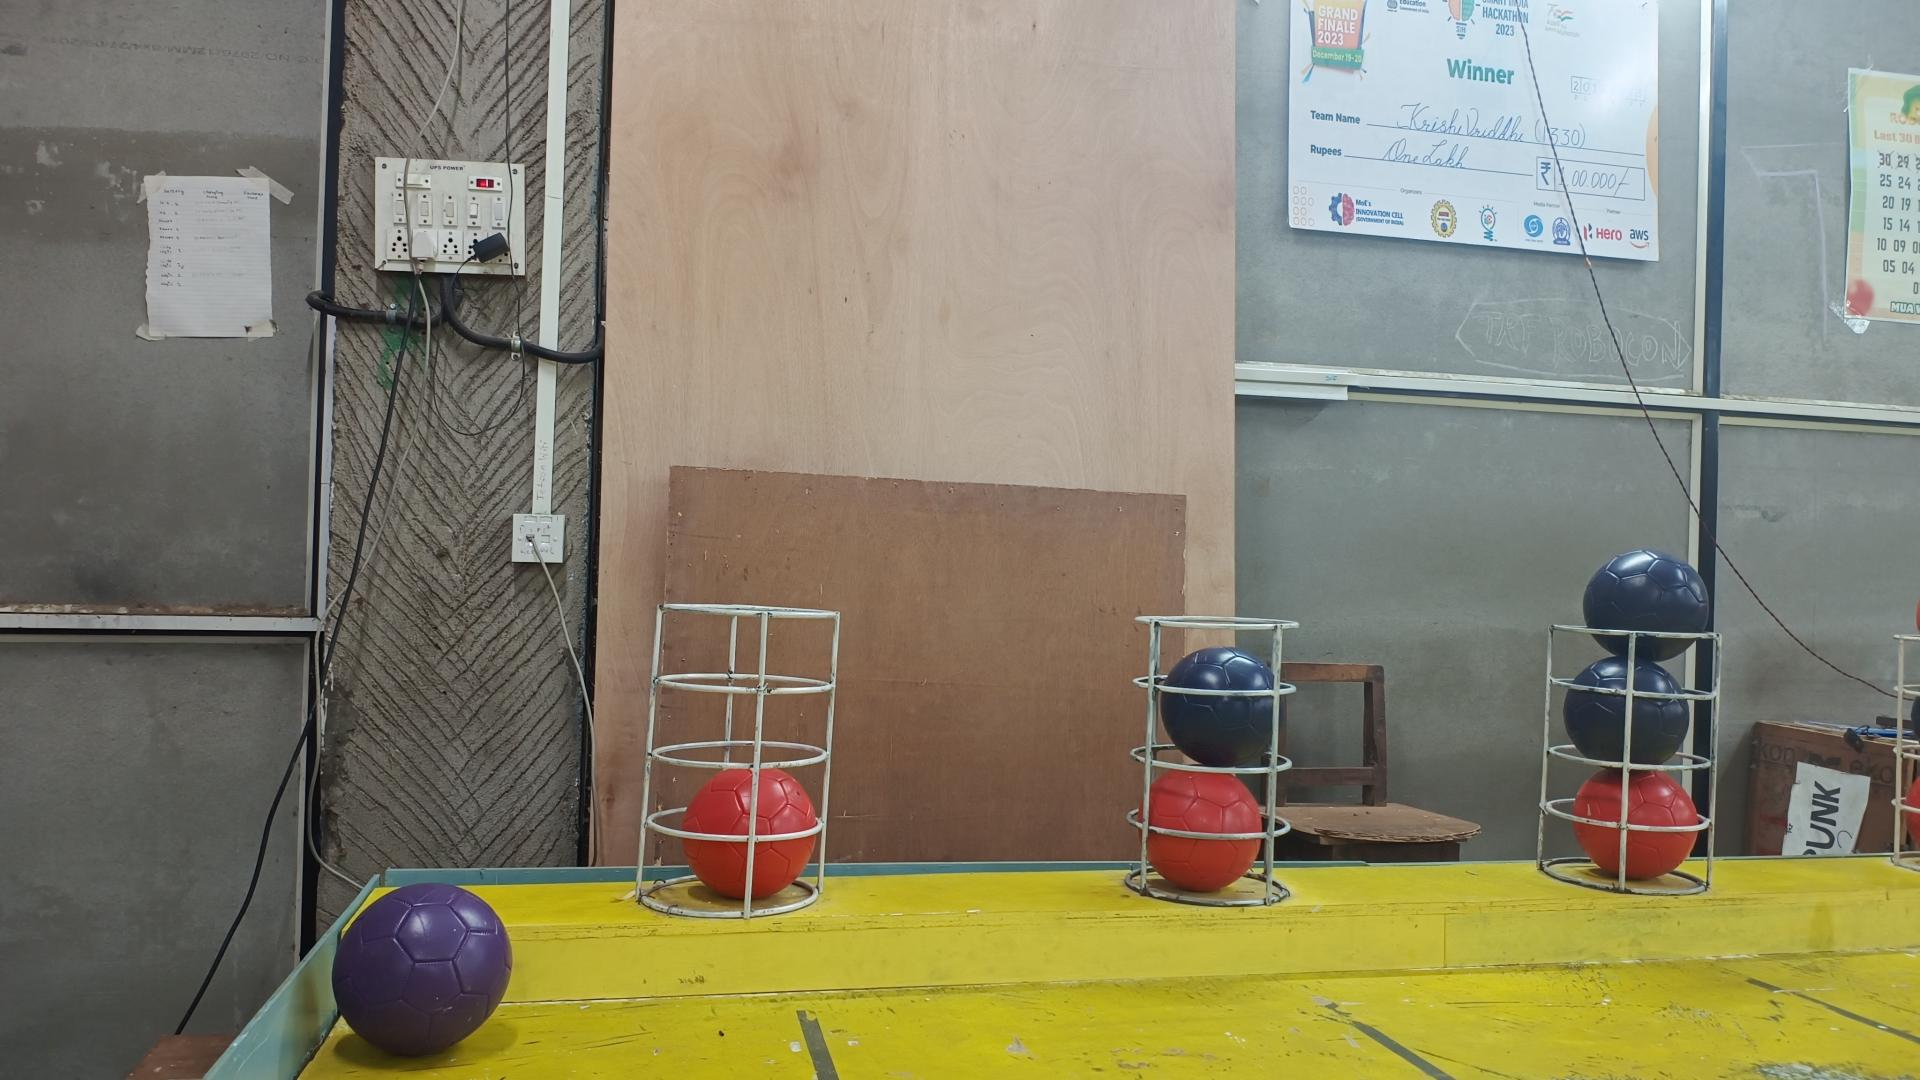dhoka: (1160, 647, 1284, 767), (1582, 550, 1710, 666), (1565, 653, 1693, 765)
laale: (683, 769, 819, 901), (1133, 769, 1263, 889), (1573, 769, 1705, 882)
